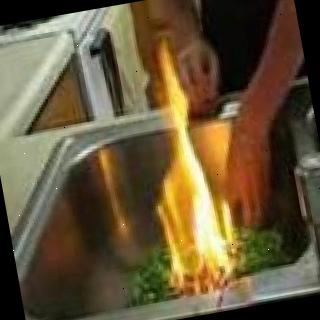fire: (129, 43, 240, 289)
